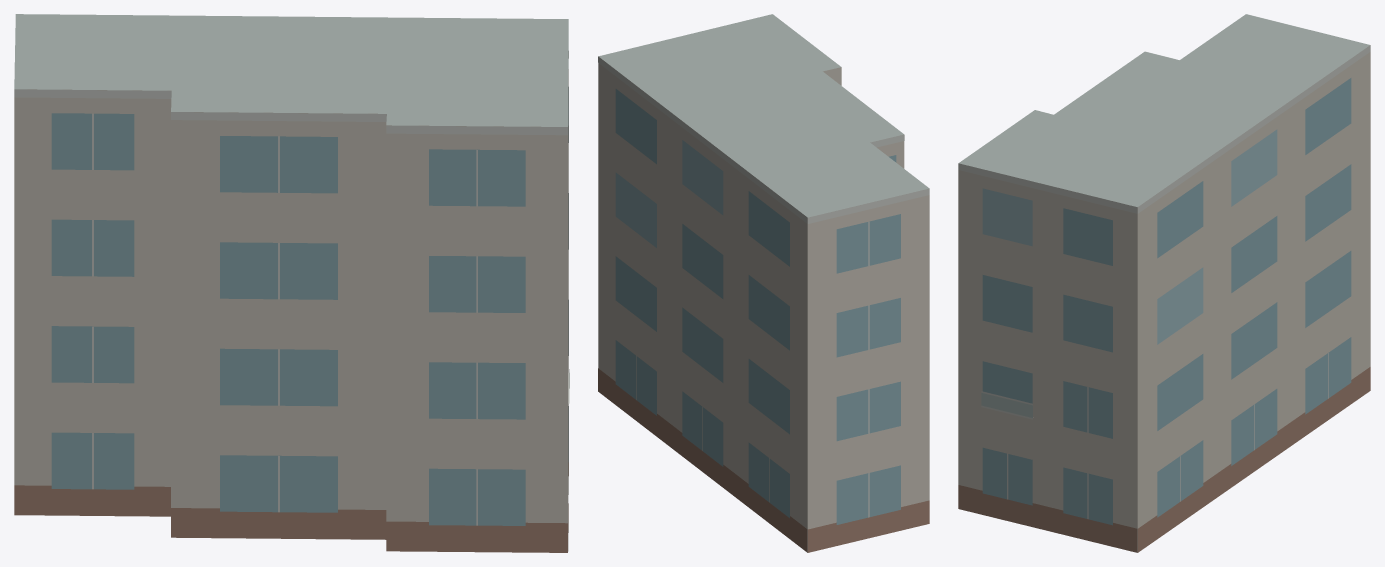
The model's file is survey-upis-32894785.glb.
3 renders of one model, left to right at view 1: azimuth 30°, elevation 25°; view 2: azimuth 150°, elevation 25°; view 3: azimuth 270°, elevation 25°, orthographic. The views are drawn at different scales.
Parts seen in each view (by area): view 1: survey-upis-32894785.tmp; view 2: survey-upis-32894785.tmp; view 3: survey-upis-32894785.tmp.
Part boxes in pixels (<box>): survey-upis-32894785.tmp: <box>14,14,569,552</box>; survey-upis-32894785.tmp: <box>598,14,929,552</box>; survey-upis-32894785.tmp: <box>958,14,1370,552</box>.
Size of the model in its own units: 15.11 by 12.6 by 13.63.
